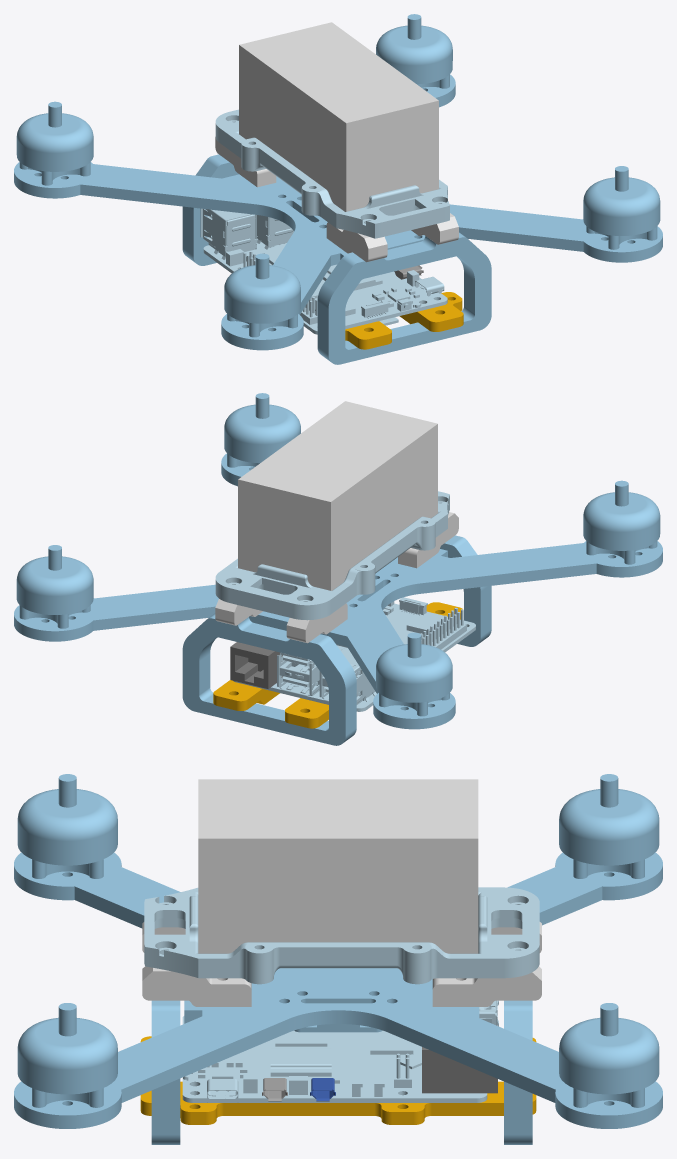
The model's file is falcon_without_rotors.dae.
3 views of the same model, one above another, from view 1: azimuth 30°, elevation 25°; view 2: azimuth 150°, elevation 25°; view 3: azimuth 270°, elevation 25° (orthographic). The views are drawn at different scales.
Parts seen in each view (by area): view 1: Part 1 (×5), battery, Part 23 (×2), PCB_for REF 060923, battery_rack, Part 16 (×3), bottom_rack_v2; view 2: Part 1 (×5), battery, Part 23 (×2), battery_rack, PCB_for REF 060923, Part 16 (×3), bottom_rack_v2, RJ45 for REF; view 3: Part 1 (×5), battery, battery_rack, PCB_for REF 060923, Part 16 (×2), bottom_rack_v2, Part 23 (×2), RJ45 for REF, Radix Li.
Boxes of the visible parts, x1,y1,x2,y2 form: Part 1 (×5): (14,14,662,350); battery: (239,22,438,211); Part 23 (×2): (182,154,491,364); PCB_for REF 060923: (200,208,447,334); battery_rack: (215,109,449,238); Part 16 (×3): (215,137,458,262); bottom_rack_v2: (345,292,463,349); Part 1 (×5): (14,393,662,729); battery: (238,401,437,590); Part 23 (×2): (182,535,491,745); battery_rack: (215,491,449,620); PCB_for REF 060923: (233,597,475,711); Part 16 (×3): (215,512,458,643); bottom_rack_v2: (213,602,462,728); RJ45 for REF: (230,642,283,688); Part 1 (×5): (14,774,662,1128); battery: (198,779,478,953); battery_rack: (144,887,539,984); PCB_for REF 060923: (182,1000,498,1102); Part 16 (×2): (142,966,541,1006); bottom_rack_v2: (140,1036,536,1124); Part 23 (×2): (151,1000,532,1144); RJ45 for REF: (422,1025,497,1093); Radix Li: (294,1024,382,1032).
Bounding box in the file's own units: 0.181 × 0.181 × 0.0893.
